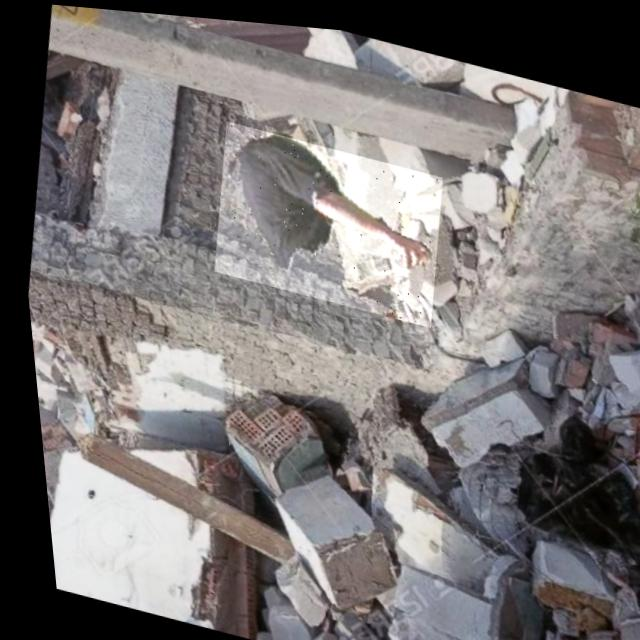Person in Rubble: (197, 113, 452, 321)
